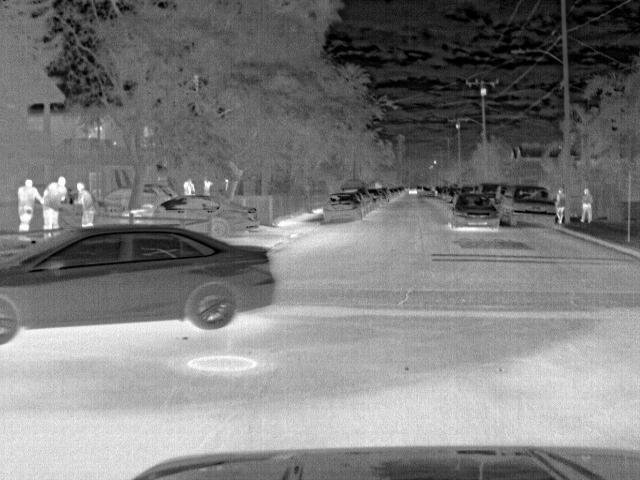car: (1, 224, 274, 347), (501, 183, 556, 227), (213, 194, 263, 237), (449, 191, 498, 229), (151, 195, 211, 220), (319, 191, 362, 224), (144, 184, 182, 216), (103, 183, 134, 216), (352, 188, 373, 214), (375, 186, 391, 204)
person: (16, 176, 44, 232), (42, 174, 69, 230), (69, 180, 95, 225), (580, 187, 595, 225), (552, 188, 565, 224), (182, 180, 194, 196)
